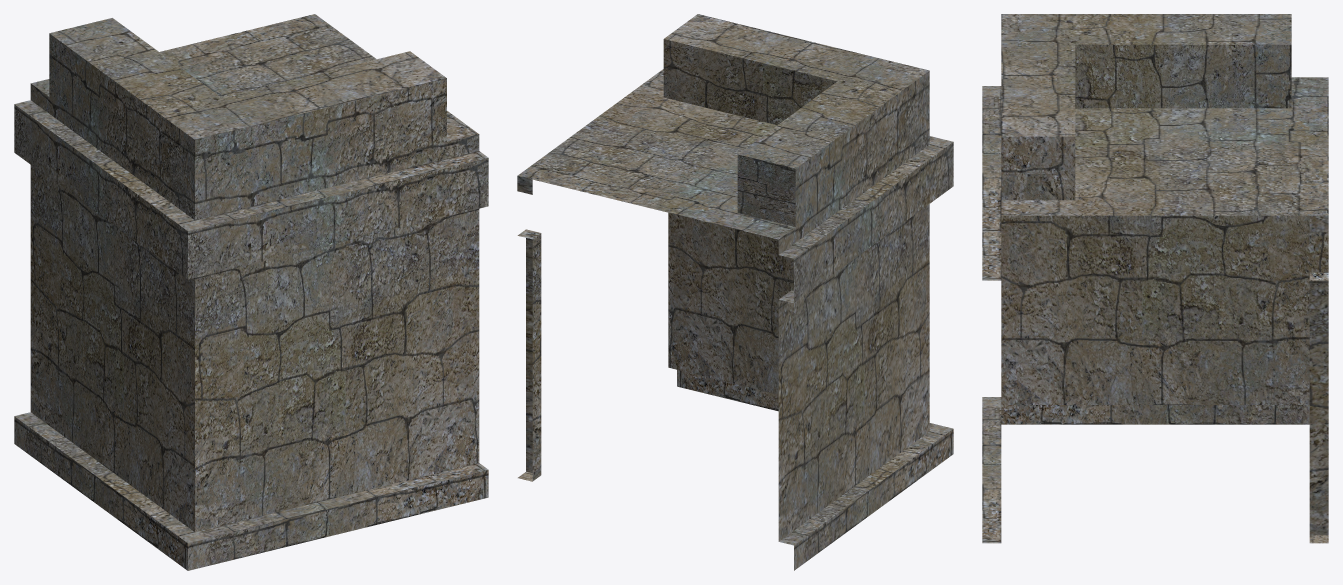
File: Section1.FBX
The picture shows the model from 3 angles, left to right: view 1: azimuth 30°, elevation 25°; view 2: azimuth 150°, elevation 25°; view 3: azimuth 270°, elevation 25°; orthographic projection. The views are drawn at different scales.
Parts seen in each view (by area): view 1: ClaimedCo102SW001; view 2: ClaimedCo102SW001; view 3: ClaimedCo102SW001.
Boxes of the visible parts, box(x1,y1,x2,y2) form: ClaimedCo102SW001: box(14, 14, 488, 570); ClaimedCo102SW001: box(517, 14, 953, 570); ClaimedCo102SW001: box(982, 14, 1328, 543).
Bounding box in the file's own units: 100 × 133 × 100.
